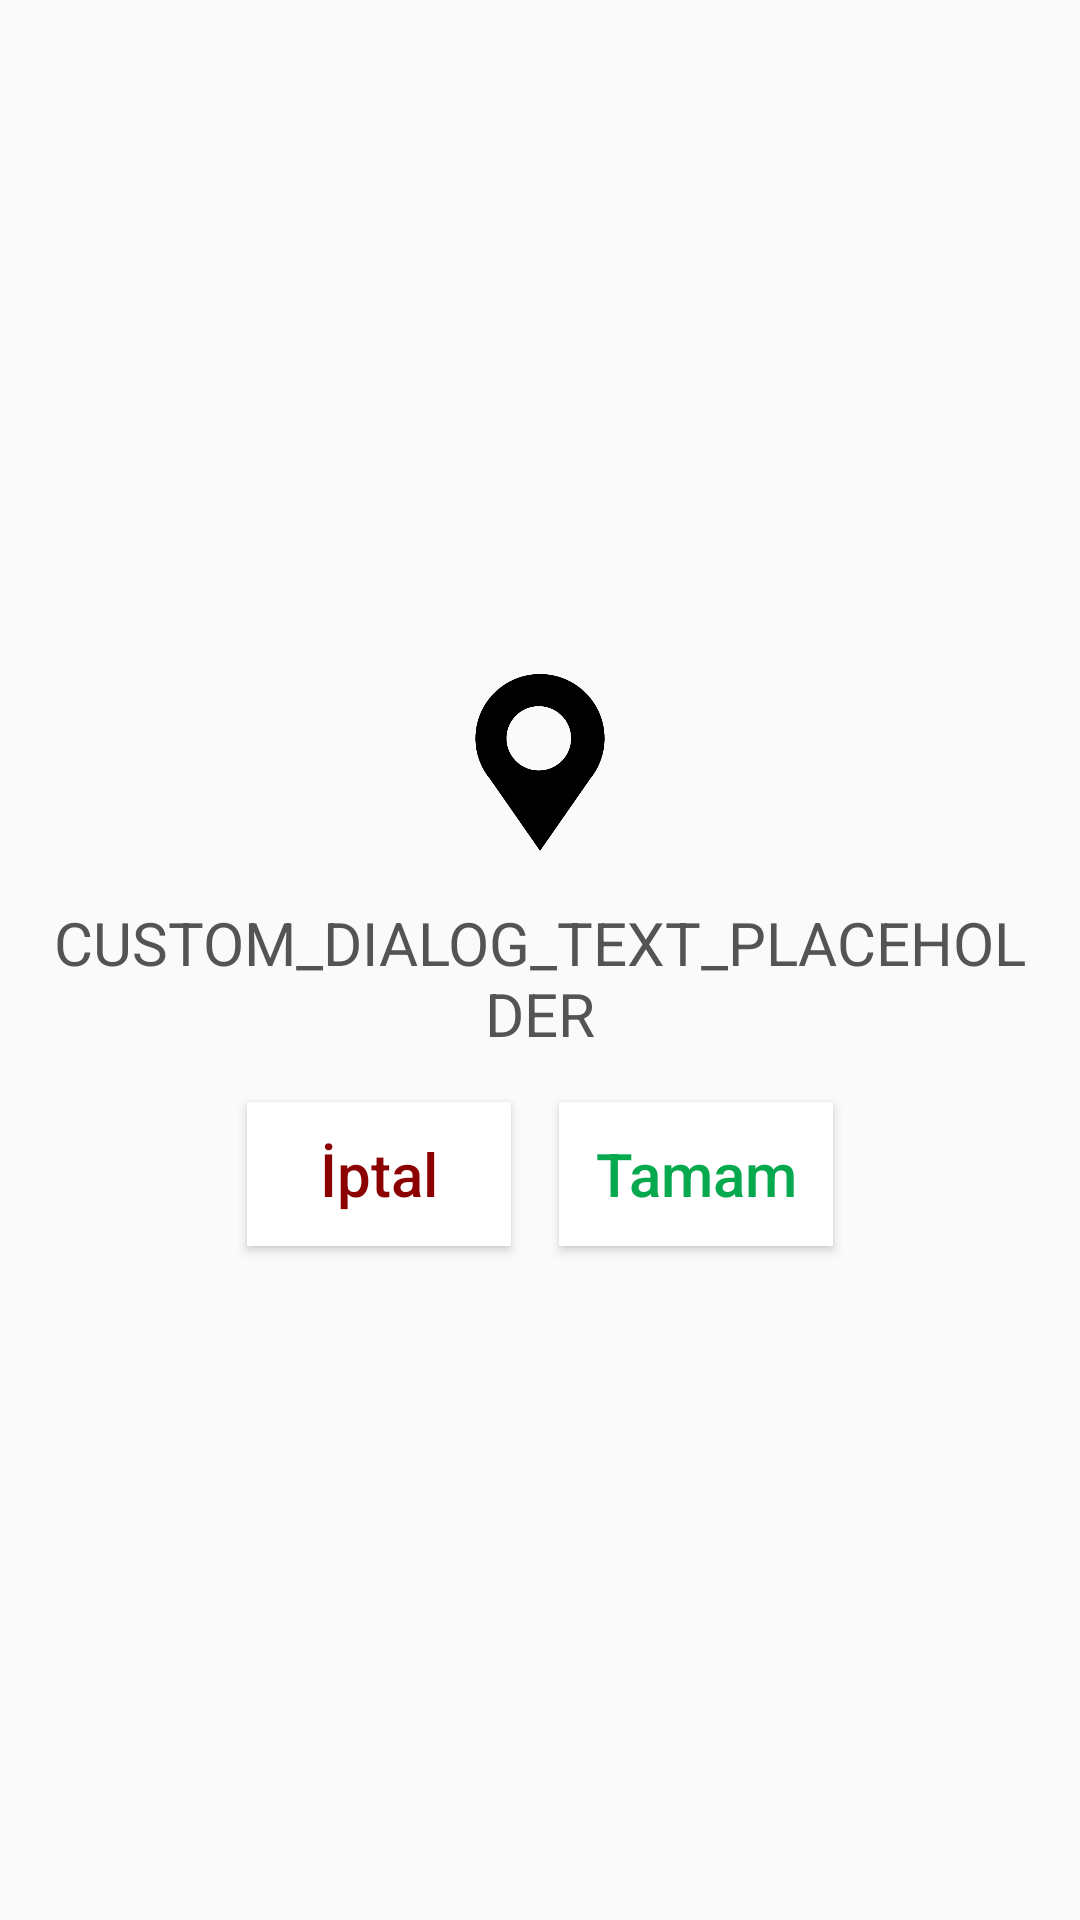

Icon click points for this 1080×1920 phone screenshot, format point (x, y):
location: point (540, 762)
